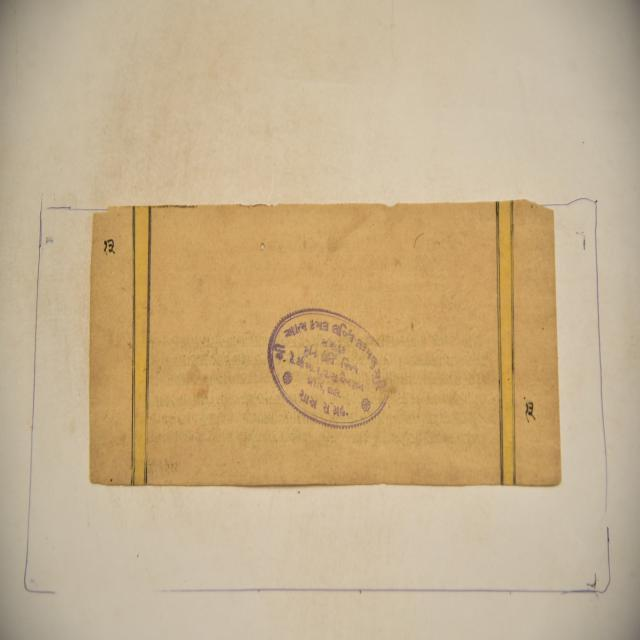text_paragraph: (91, 201, 560, 484)
